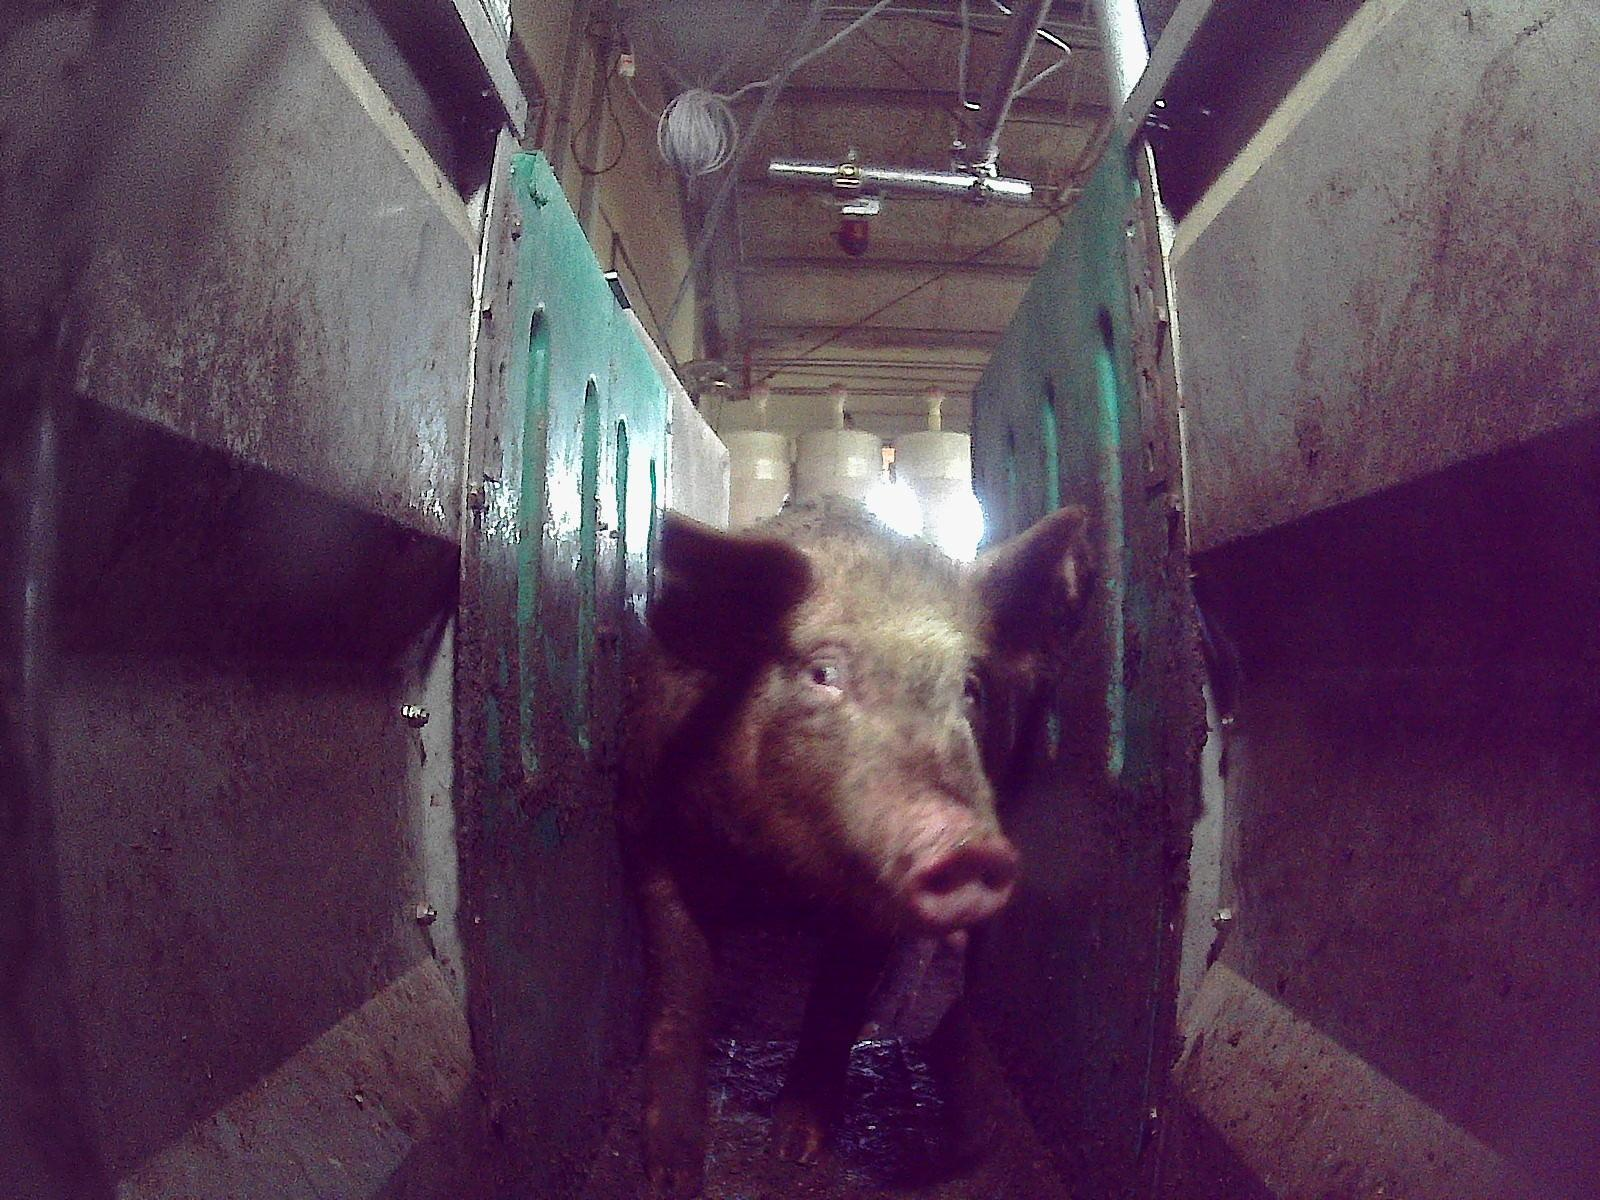Face: (706, 525, 1018, 938)
